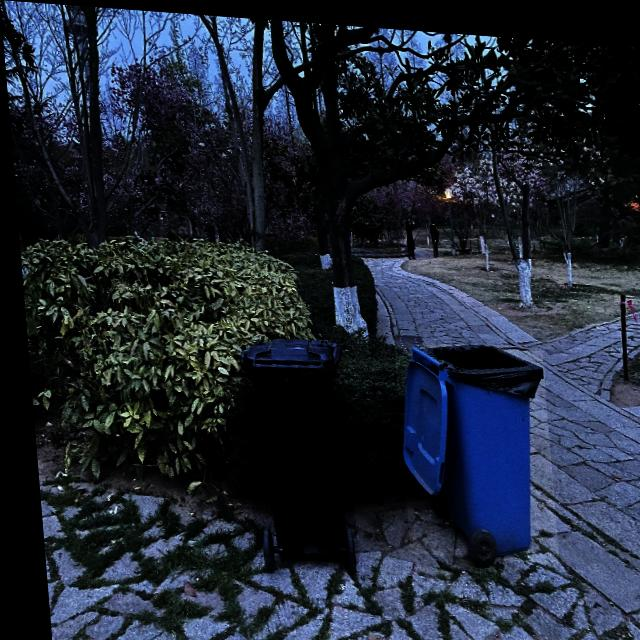garbage_bin: (388, 334, 551, 556), (232, 331, 350, 559)
